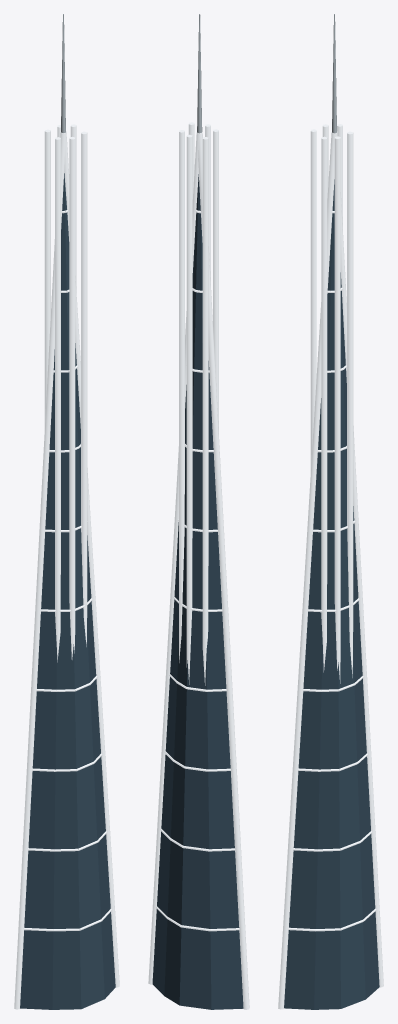
Rendered from shard.glb.
3 views of the same model, side by side, from view 1: azimuth 90°, elevation 25°; view 2: azimuth 210°, elevation 25°; view 3: azimuth 270°, elevation 25° (orthographic).
Visible parts, largest first — view 1: shard; view 2: shard; view 3: shard.
Boxes of the visible parts, x1,y1,x2,y2 form: shard: [14, 14, 119, 1009]; shard: [148, 14, 249, 1009]; shard: [278, 14, 383, 1009].
Size of the model in its own units: 0.3482 by 6.27 by 0.6106.
